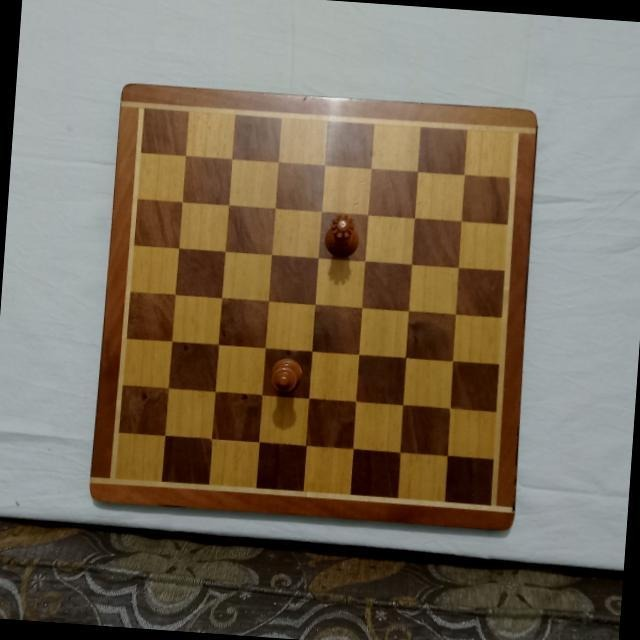white-king: (270, 355, 306, 394)
white-queen: (324, 210, 360, 262)
